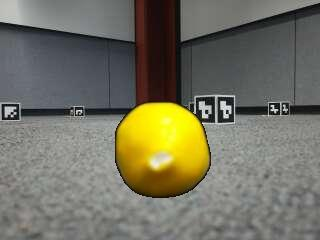lemon: (114, 102, 208, 197)
